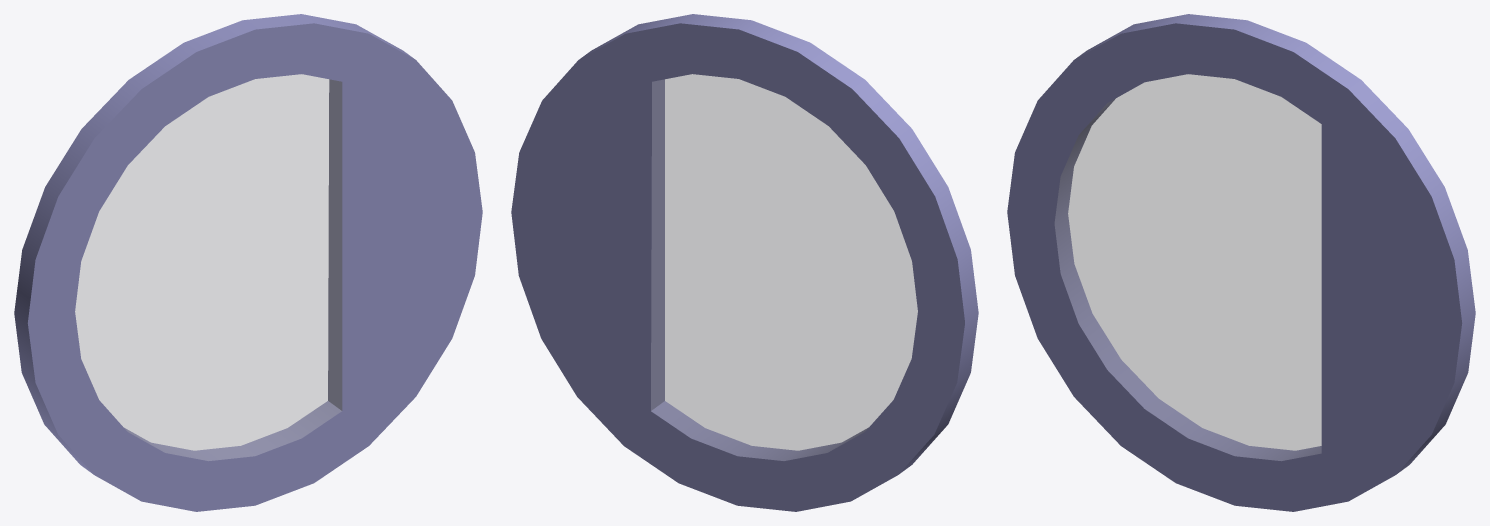
The model's file is GDCJoinPipe.gltf.
3 renders of one model, left to right at view 1: azimuth 30°, elevation 25°; view 2: azimuth 150°, elevation 25°; view 3: azimuth 330°, elevation 25°, orthographic.
Visible parts, largest first — view 1: GDCJoinPipe0x2249ce0, GDCJoinPipeVac0x224a0f0; view 2: GDCJoinPipe0x2249ce0, GDCJoinPipeVac0x224a0f0; view 3: GDCJoinPipe0x2249ce0, GDCJoinPipeVac0x224a0f0.
Part boxes in pixels (<box>): GDCJoinPipe0x2249ce0: <box>14,14,482,511</box>; GDCJoinPipeVac0x224a0f0: <box>75,74,341,460</box>; GDCJoinPipe0x2249ce0: <box>511,14,978,511</box>; GDCJoinPipeVac0x224a0f0: <box>651,74,917,460</box>; GDCJoinPipe0x2249ce0: <box>1007,14,1475,511</box>; GDCJoinPipeVac0x224a0f0: <box>1055,74,1321,460</box>.
Bounding box in the file's own units: 48.1 × 48.1 × 2.64.
